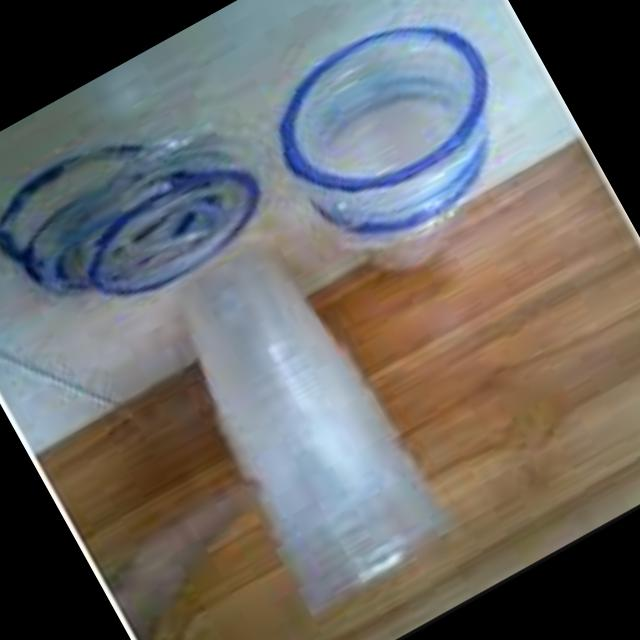GelasPlastik: (138, 225, 464, 622), (247, 0, 553, 296)
